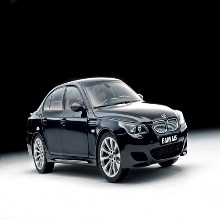no damage: (24, 74, 189, 183)
